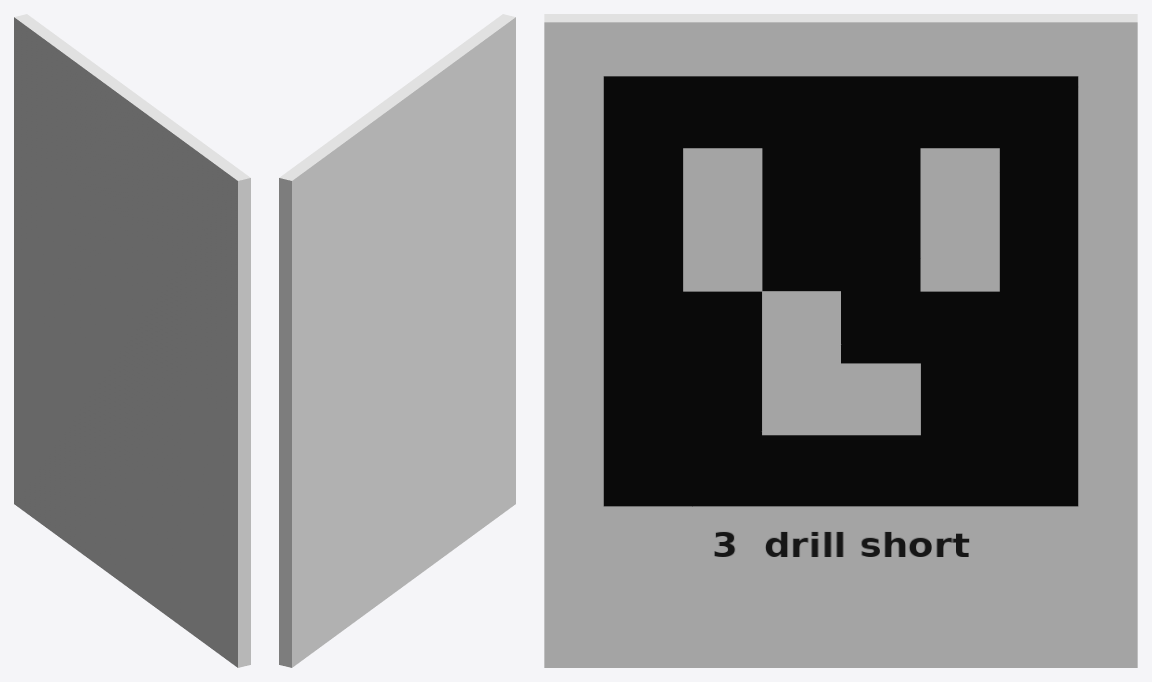
Rendered from tag_drill_short.dae.
3 views of the same model, side by side, from view 1: azimuth 30°, elevation 25°; view 2: azimuth 150°, elevation 25°; view 3: azimuth 270°, elevation 25° (orthographic). The views are drawn at different scales.
Parts seen in each view (by area): view 1: tag_drill_short; view 2: tag_drill_short; view 3: tag_drill_short.
Boxes of the visible parts, x1,y1,x2,y2 form: tag_drill_short: (14, 14, 250, 667); tag_drill_short: (279, 14, 515, 667); tag_drill_short: (544, 14, 1137, 667).
Bounding box in the file's own units: 0.01 × 0.3 × 0.36.
1 material, 1 textured.
